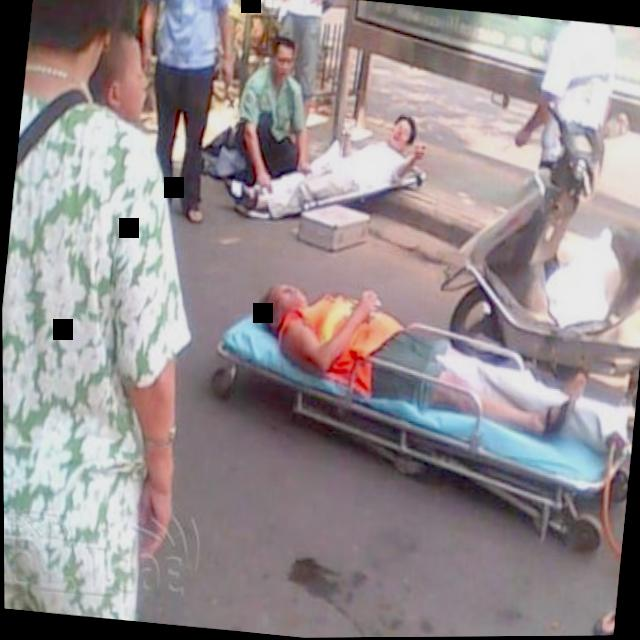Fall-Detected: (223, 79, 439, 235)
